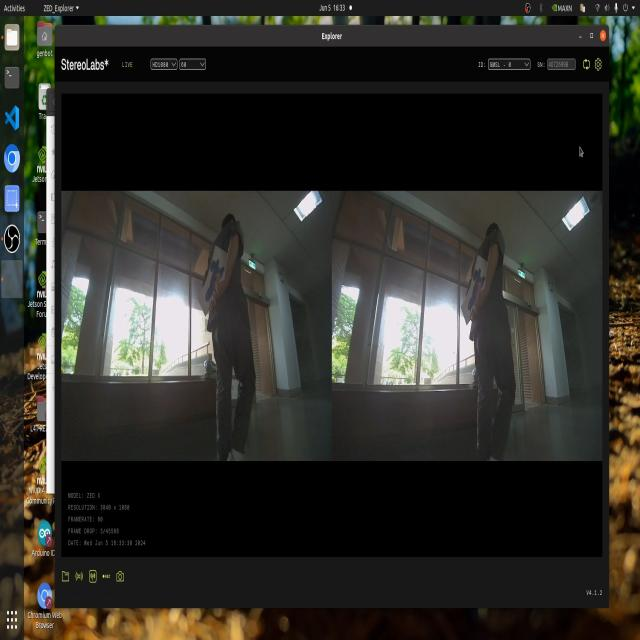blue: (470, 264, 488, 313), (203, 258, 222, 303)
